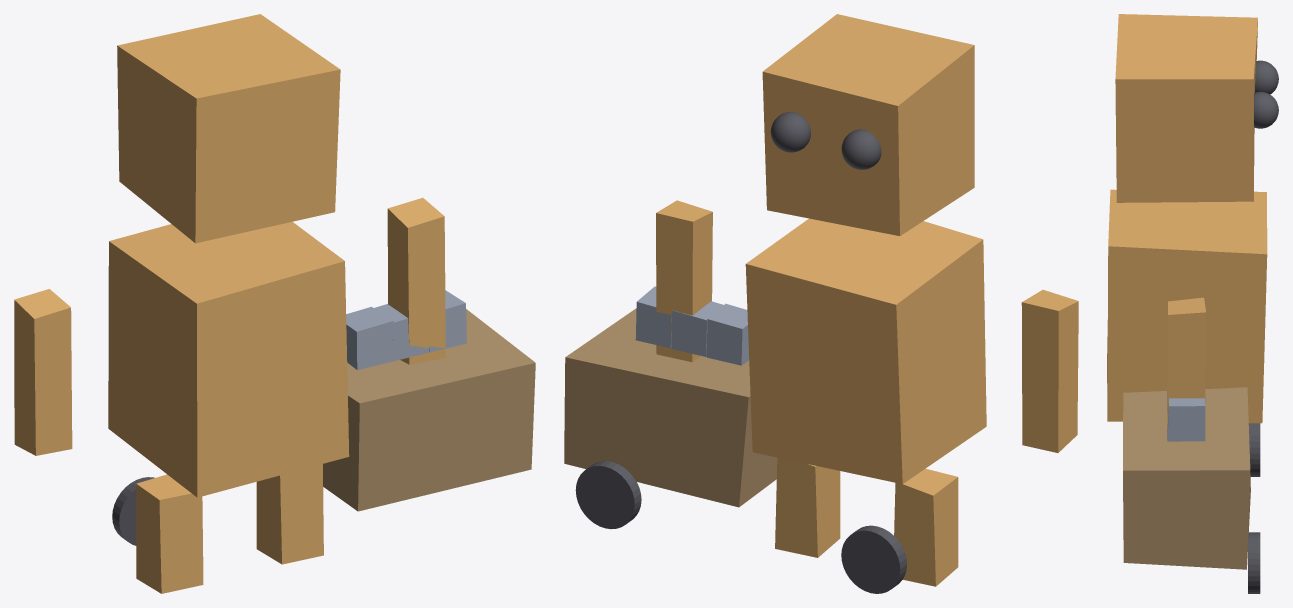
File: clay_noob_mine_cart.glb
The picture shows the model from 3 angles, left to right: view 1: azimuth 30°, elevation 25°; view 2: azimuth 150°, elevation 25°; view 3: azimuth 270°, elevation 25°; orthographic projection. The views are drawn at different scales.
Visible parts, largest first — view 1: wheel.001; view 2: wheel.001; view 3: wheel.001.
Part boxes in pixels (x1,y1,x2,y2): wheel.001: (14, 14, 535, 593); wheel.001: (564, 14, 1078, 593); wheel.001: (1107, 14, 1278, 593).
Size of the model in its own units: 1.6 by 1.63 by 0.5585.
